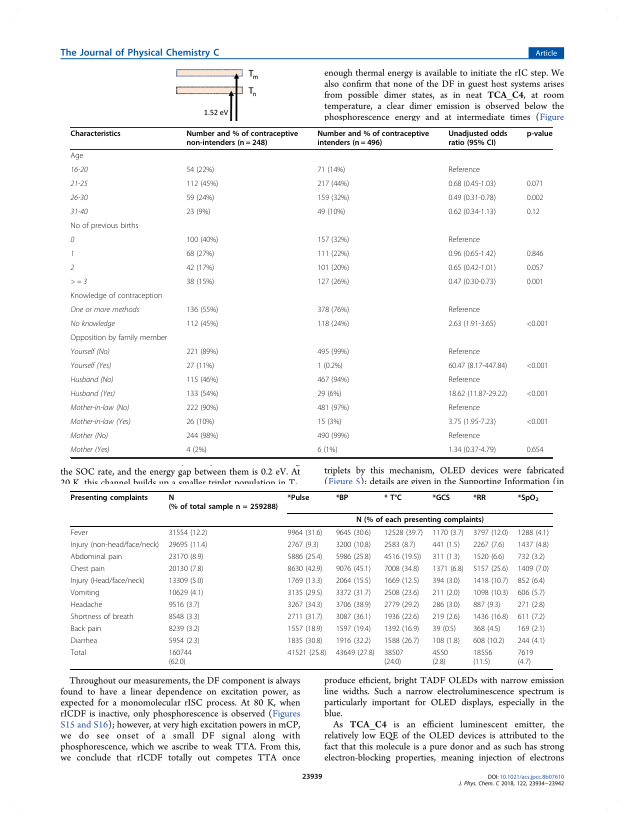borderless: (69, 126, 552, 457), (69, 489, 553, 669)
cell: (185, 130, 299, 148), (316, 130, 430, 148), (168, 493, 279, 511), (355, 515, 485, 525), (447, 130, 508, 148), (70, 334, 168, 344), (70, 292, 163, 302), (70, 540, 160, 550), (70, 576, 146, 586), (70, 493, 149, 502), (70, 222, 139, 232), (70, 612, 134, 622), (70, 306, 140, 315), (447, 362, 508, 372), (447, 390, 508, 400), (70, 418, 132, 427), (70, 404, 130, 413), (70, 552, 123, 562), (447, 180, 497, 190), (447, 194, 497, 204), (447, 208, 497, 218), (447, 250, 497, 260), (447, 264, 497, 274), (447, 278, 497, 288), (447, 320, 497, 330), (447, 418, 497, 428), (447, 446, 497, 456), (70, 130, 122, 139), (70, 320, 116, 330), (168, 648, 192, 666), (70, 390, 116, 399), (383, 528, 424, 538), (168, 528, 208, 538), (168, 540, 208, 550), (70, 376, 114, 385), (383, 552, 422, 562), (70, 362, 112, 371), (383, 648, 404, 666), (472, 648, 493, 666), (335, 528, 372, 538), (472, 528, 509, 538), (335, 540, 372, 550), (335, 552, 372, 562), (335, 564, 372, 574), (383, 564, 420, 574), (472, 564, 509, 574), (335, 576, 372, 586), (383, 576, 420, 586), (472, 576, 509, 586), (335, 588, 372, 598), (383, 588, 420, 598), (472, 588, 509, 598), (335, 600, 372, 610), (383, 600, 420, 610), (335, 612, 372, 622), (383, 612, 420, 622), (472, 612, 509, 622), (70, 348, 111, 357), (70, 446, 110, 455), (287, 528, 323, 538), (168, 552, 204, 562), (287, 552, 323, 562), (70, 564, 106, 574), (168, 564, 204, 574), (287, 564, 323, 574), (168, 576, 204, 586), (287, 576, 323, 586), (168, 588, 204, 598), (287, 588, 323, 598), (287, 600, 323, 610), (287, 612, 323, 622), (287, 648, 327, 657), (335, 648, 375, 657), (70, 432, 109, 441), (447, 166, 481, 176), (185, 180, 219, 190), (316, 180, 350, 190), (316, 194, 350, 204), (185, 236, 219, 246), (316, 236, 350, 246), (447, 236, 481, 246), (316, 250, 350, 260), (316, 264, 350, 274), (316, 278, 350, 288), (185, 306, 219, 316), (316, 306, 350, 316), (447, 306, 481, 316), (185, 320, 219, 330), (316, 320, 350, 330), (185, 348, 219, 358), (316, 348, 350, 358), (447, 348, 481, 358), (185, 376, 219, 386), (316, 376, 350, 386), (447, 376, 481, 386), (185, 390, 219, 400), (185, 404, 219, 414), (316, 404, 350, 414), (447, 404, 481, 414), (185, 432, 219, 442), (316, 432, 350, 442), (447, 432, 481, 442), (335, 624, 372, 633), (383, 624, 420, 633), (335, 636, 372, 645), (383, 636, 420, 645), (431, 528, 464, 538), (517, 528, 550, 538), (287, 540, 320, 550), (383, 540, 416, 550), (472, 540, 505, 550), (517, 540, 550, 550), (472, 552, 505, 562), (431, 564, 464, 574), (517, 564, 550, 574), (70, 600, 103, 610), (168, 600, 201, 610), (168, 612, 201, 622), (287, 624, 323, 633), (287, 636, 323, 645), (431, 648, 449, 666), (517, 648, 534, 666), (185, 166, 215, 176), (316, 166, 346, 176), (185, 194, 215, 204), (316, 208, 346, 218), (185, 250, 215, 260), (185, 264, 215, 274), (185, 278, 215, 288), (185, 362, 215, 372), (185, 418, 215, 428), (431, 540, 461, 550), (431, 552, 461, 562), (431, 576, 461, 586), (70, 588, 100, 598), (431, 588, 461, 598), (431, 600, 461, 610), (431, 612, 461, 622), (168, 624, 201, 633), (168, 636, 201, 645), (472, 636, 505, 645), (517, 552, 546, 562), (517, 576, 546, 586), (517, 588, 546, 598), (472, 600, 501, 610), (517, 600, 546, 610), (517, 612, 546, 622), (70, 624, 102, 633), (316, 362, 344, 372), (431, 636, 461, 645), (472, 624, 501, 633), (517, 624, 546, 633), (517, 636, 546, 645), (185, 208, 211, 218), (316, 390, 342, 400), (316, 418, 342, 428), (70, 636, 98, 645), (526, 130, 553, 139), (431, 624, 457, 633), (526, 320, 549, 330), (526, 362, 549, 372), (526, 390, 549, 400), (526, 418, 549, 428), (517, 493, 540, 503), (185, 446, 207, 456), (316, 446, 338, 456), (287, 493, 310, 502), (70, 528, 89, 538), (526, 180, 544, 190), (526, 194, 544, 204), (526, 250, 544, 260), (526, 264, 544, 274), (526, 278, 544, 288), (526, 446, 544, 456), (383, 493, 403, 502), (431, 493, 451, 502), (70, 166, 88, 175), (70, 180, 88, 189), (70, 194, 88, 203), (70, 208, 88, 217), (70, 278, 88, 287), (70, 648, 87, 657), (526, 208, 541, 218), (70, 152, 84, 162), (472, 493, 487, 502), (335, 493, 349, 502), (70, 236, 75, 245), (70, 250, 75, 259), (70, 264, 75, 273)
